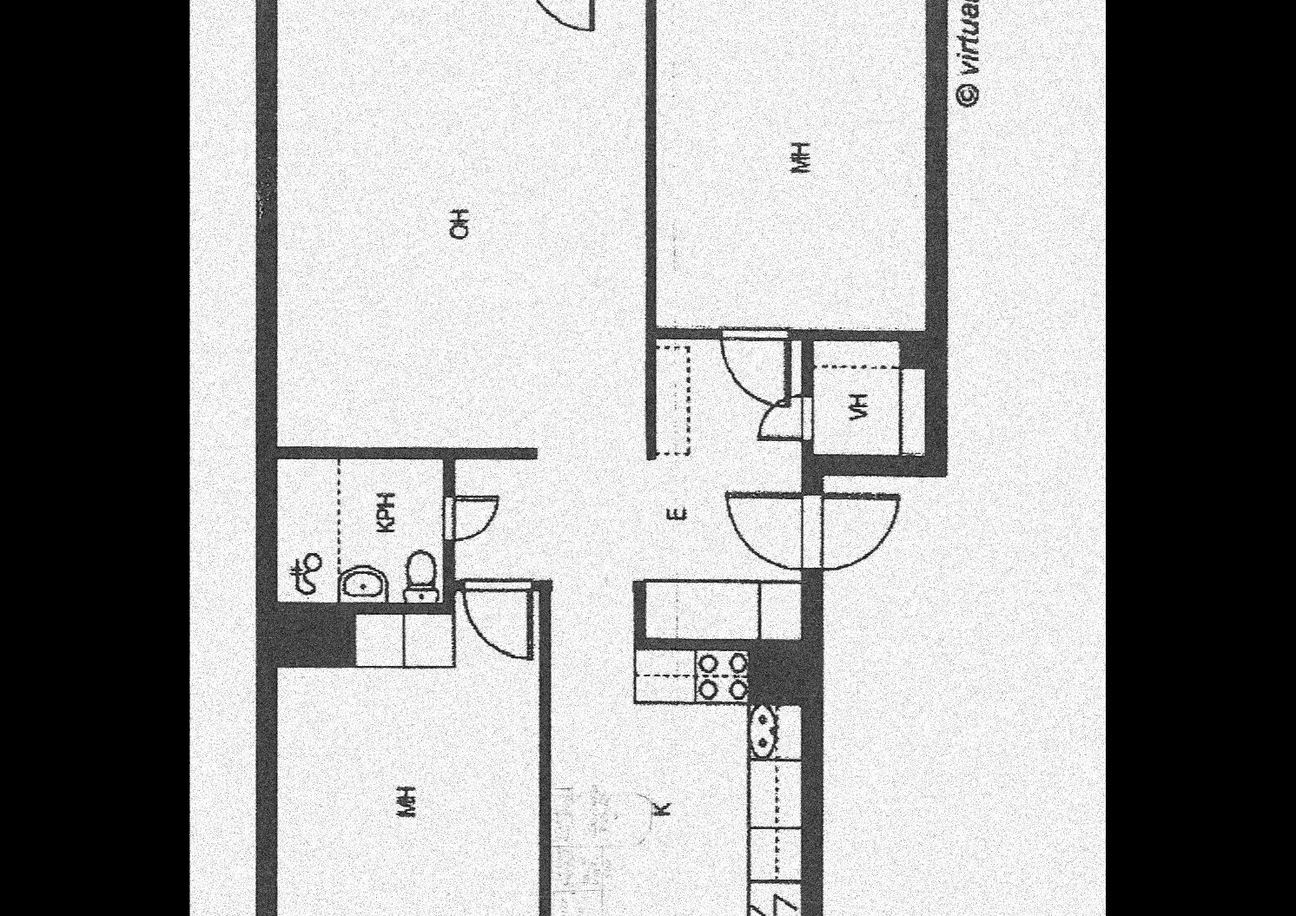door: (707, 481, 909, 575), (456, 570, 549, 663), (714, 327, 795, 410), (748, 387, 826, 443), (436, 488, 508, 546), (517, 0, 609, 43)
zone: (453, 343, 798, 916), (279, 0, 648, 445), (271, 579, 542, 916), (651, 0, 923, 325), (272, 458, 443, 599)
